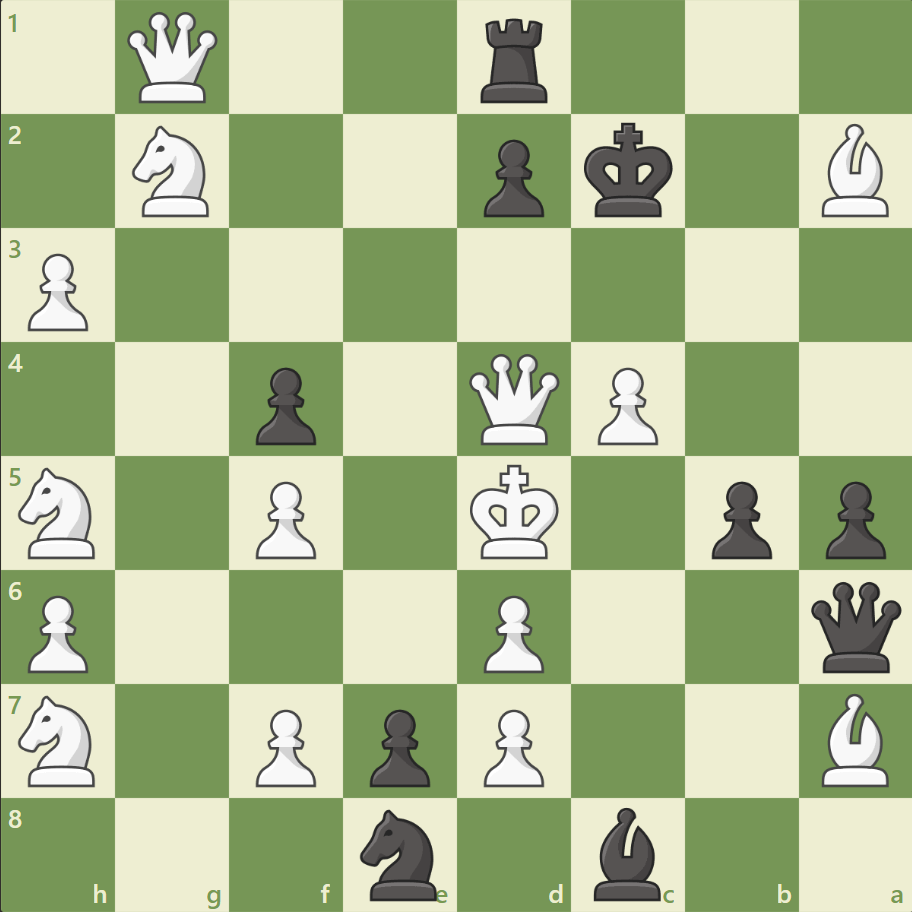B: (812, 687, 896, 790), (812, 120, 896, 222)
K: (465, 458, 565, 566)
N: (124, 121, 222, 223), (11, 688, 108, 791), (11, 461, 108, 564)
P: (474, 700, 549, 791), (247, 700, 322, 791), (474, 586, 549, 677), (20, 586, 95, 677), (247, 473, 322, 564), (20, 246, 95, 337), (588, 359, 662, 450)
Q: (464, 349, 563, 449), (124, 9, 223, 108)
b: (585, 801, 669, 904)
k: (579, 117, 679, 225)
n: (351, 802, 449, 904)
p: (701, 473, 776, 564), (247, 359, 322, 450), (474, 132, 549, 223), (361, 700, 435, 791), (815, 473, 889, 564)
q: (805, 576, 904, 676)
r: (473, 12, 556, 109)
